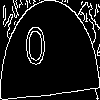O: (25, 25, 47, 75)
